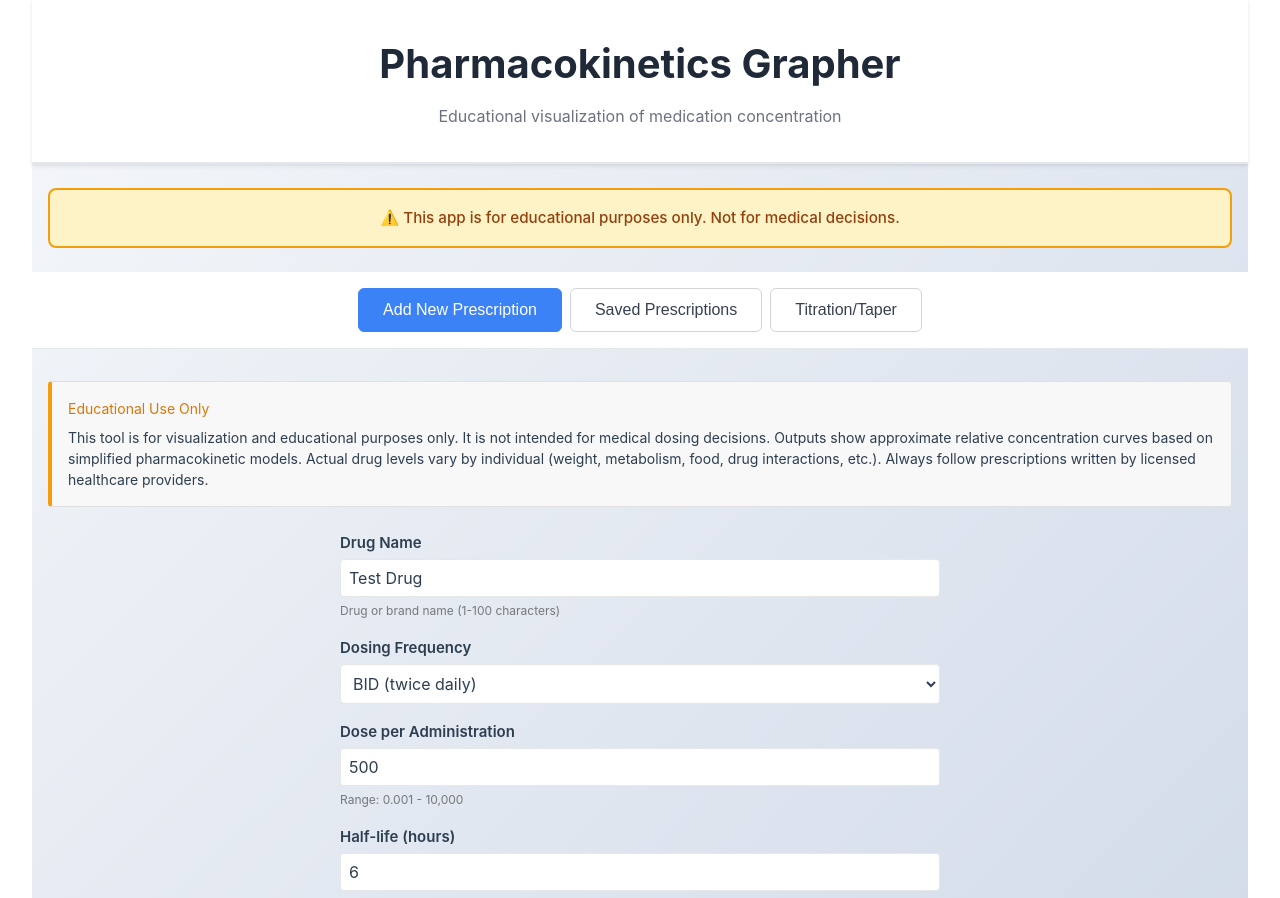
App.vue - Schedule Tab Integration › Schedule sub-navigation › shows schedule sub-navigation when schedule tab is active
Click the button "Titration/Taper".
click(846, 310)  # box [770,288,922,332]
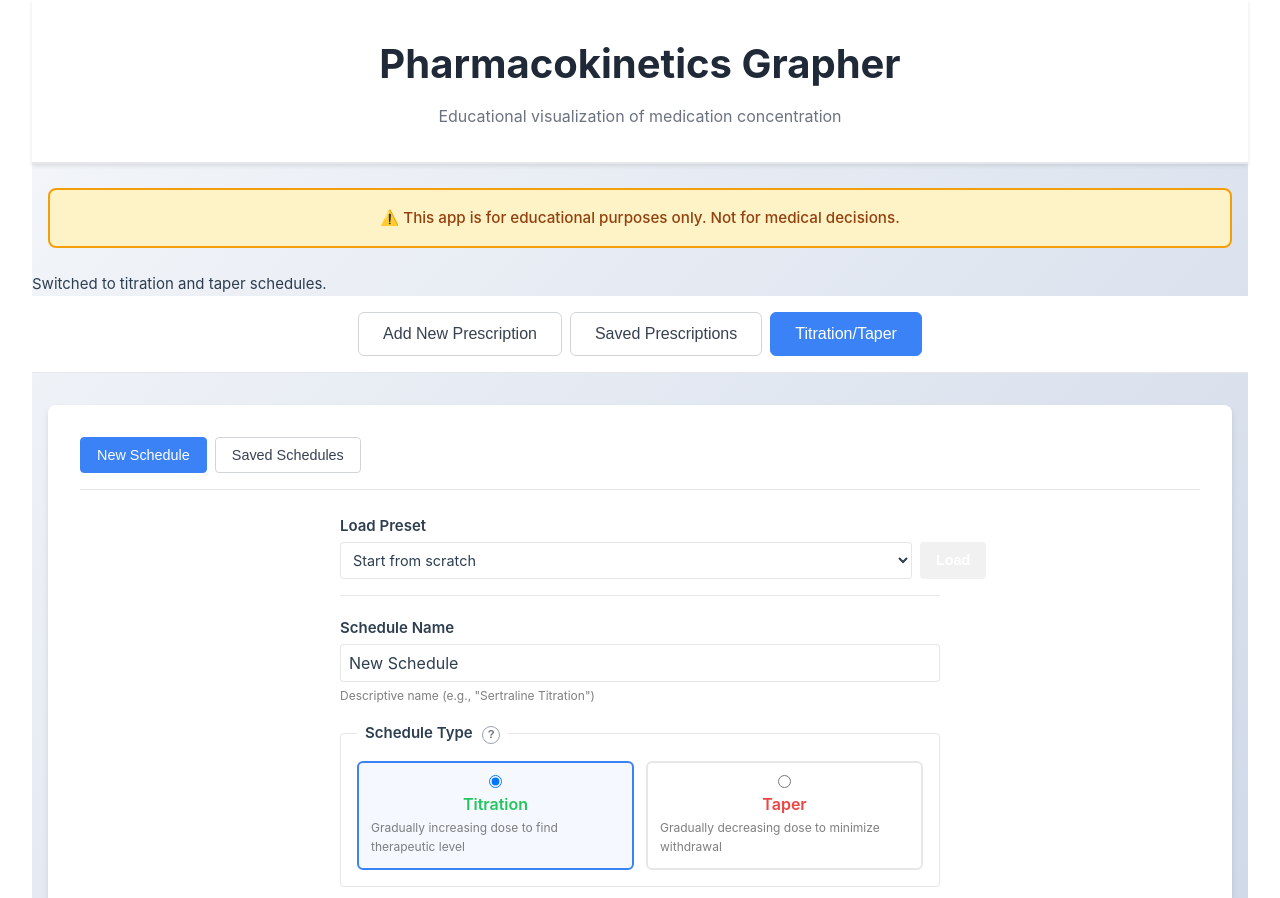
Check: the navigation bar "New Schedule Saved Schedules" is shown, box [80,437,1200,490]
